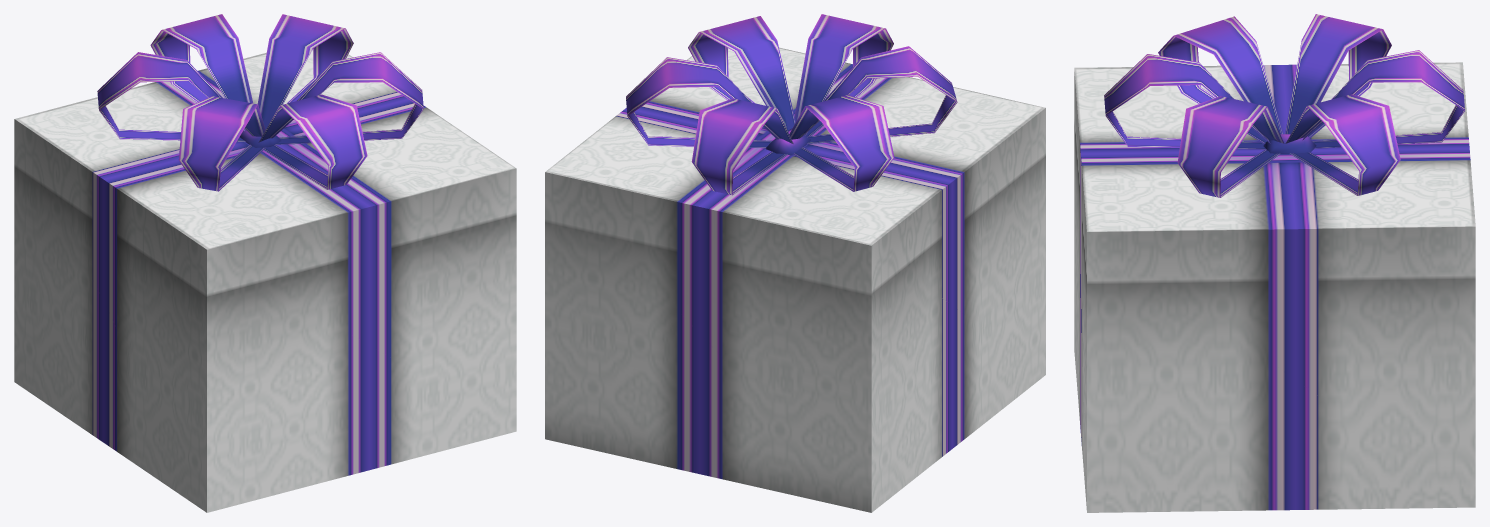
File: Gift10.FBX
3 renders of one model, left to right at view 1: azimuth 30°, elevation 25°; view 2: azimuth 150°, elevation 25°; view 3: azimuth 270°, elevation 25°, orthographic. The views are drawn at different scales.
Parts seen in each view (by area): view 1: Gift10; view 2: Gift10; view 3: Gift10.
Boxes of the visible parts, x1,y1,x2,y2 form: Gift10: (14, 14, 516, 512); Gift10: (545, 14, 1045, 512); Gift10: (1074, 14, 1475, 512).
Bounding box in the file's own units: 12.72 × 12.55 × 12.72.
Materials: 1 (1 with a texture image).
